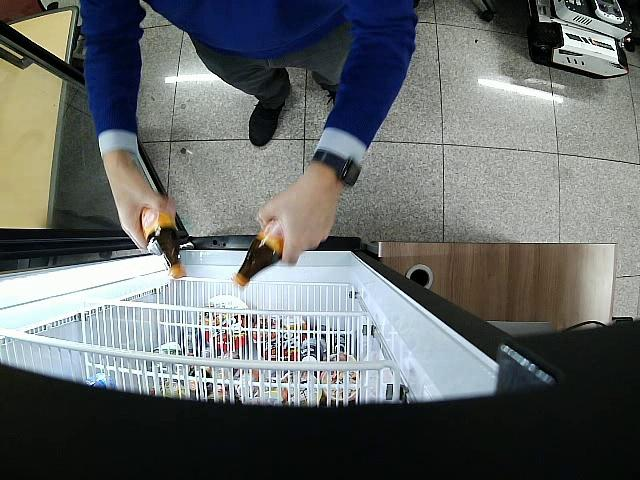00_hand: (256, 184, 343, 267), (103, 160, 177, 251)
17_vita500: (140, 208, 187, 279), (234, 220, 282, 288)
